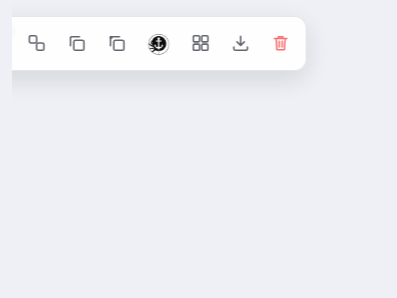
Test case: MultiSelectToolbar：整理布局分组下拉（IA 重排） › 下拉按「重排 / 规整」分组，10 项一个不少（分组只改信息架构，不改能力集）
Click the button named "整理布局".
click(200, 43)  # box top-left (183, 26), bottom-right (217, 60)
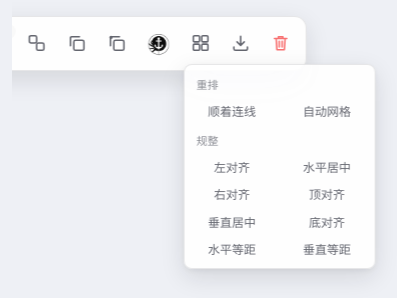
Result: the element with test id "layout-menu-groups" is shown at top-left (183, 64), bottom-right (375, 269)
Result: the element with test id "layout-menu-groups" shows "重排" at top-left (196, 78), bottom-right (218, 92)
Result: the element with test id "layout-menu-groups" shows "规整" at top-left (196, 134), bottom-right (218, 148)
